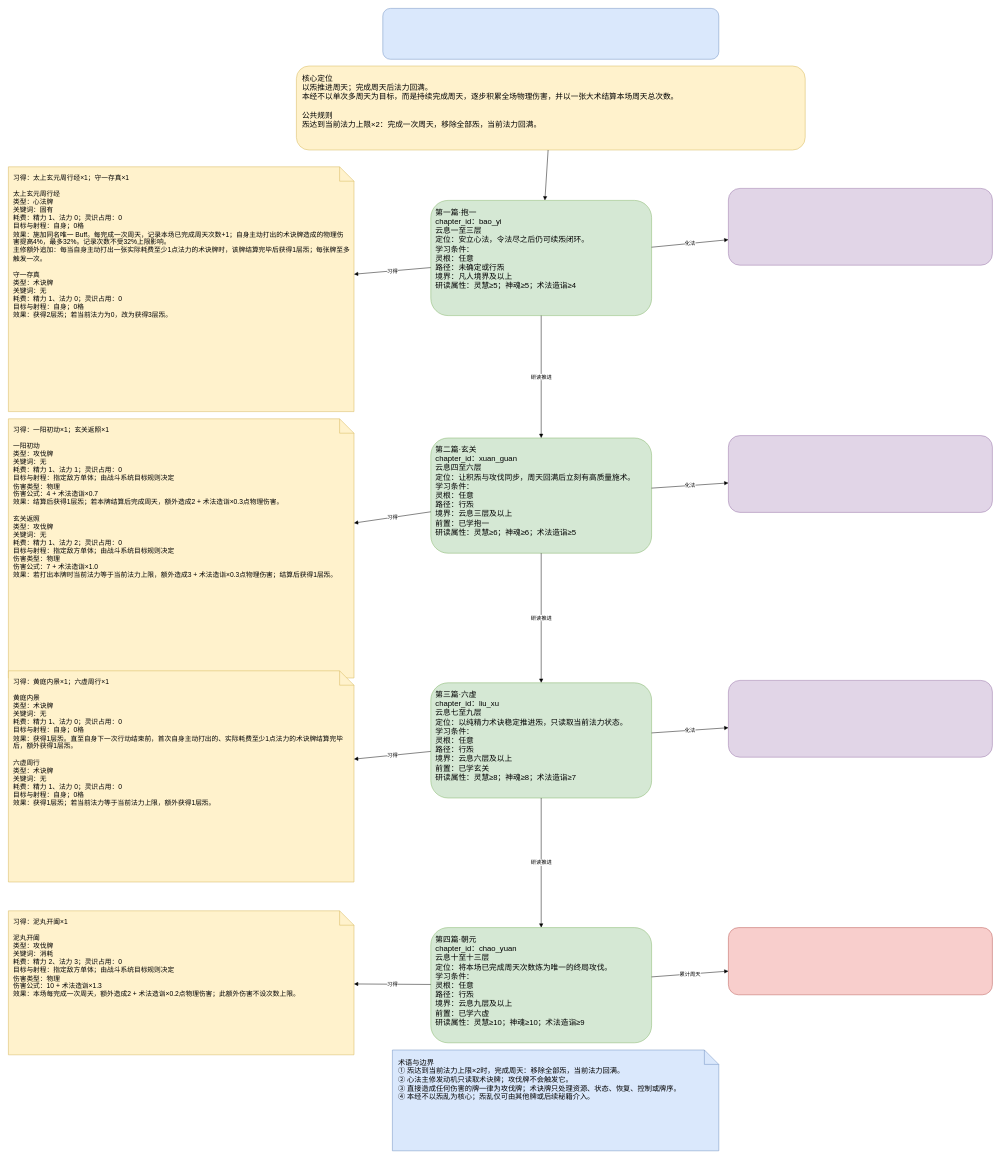
This 1001x1159 diagram has some shape labels left out. The box of each missing label's shape, as (x1, y1, x2, y2) in pixels:
化法·凝元×1 保留原效果：仅当当前法力为0时可打出；获得1点当回合法力。 追加效果：获得1层炁。 定位：把法力见底转为下一次周天的起点。: (728, 680, 992, 757)
化法·灵击×1 保留原效果：对指定敌方单体造成原有物理伤害。 追加效果：本牌结算完毕后，获得1层炁。 定位：将基础攻伐牌接入本经的日常积炁链。: (728, 435, 992, 512)
化法·聚息×1 保留原效果：获得1点当回合法力。 追加效果：若打出本牌前当前法力为0，获得1层炁。 定位：法尽时既补法力，也重新推动周天。: (728, 188, 992, 265)
太上玄元周行经 行炁 / 可主修、可辅修 / 云息十三层: (382, 8, 719, 59)
朝元收束 本经仅泥丸开阖读取本场累计周天次数。 心法的32%伤害提高在8次周天后封顶；泥丸开阖继续读取其后的每一次周天，因此长战仍有上限。: (728, 927, 992, 995)
